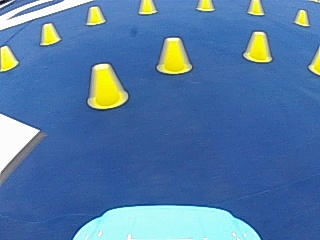cone: (87, 62, 127, 109), (156, 36, 192, 75), (242, 30, 273, 62), (39, 22, 60, 45), (0, 45, 18, 70), (85, 5, 105, 25), (308, 45, 319, 76), (293, 9, 309, 26), (247, 0, 264, 15), (138, 0, 156, 14), (196, 0, 213, 11)
